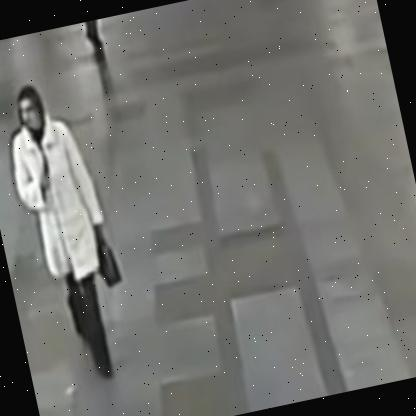person: (0, 66, 151, 394)
